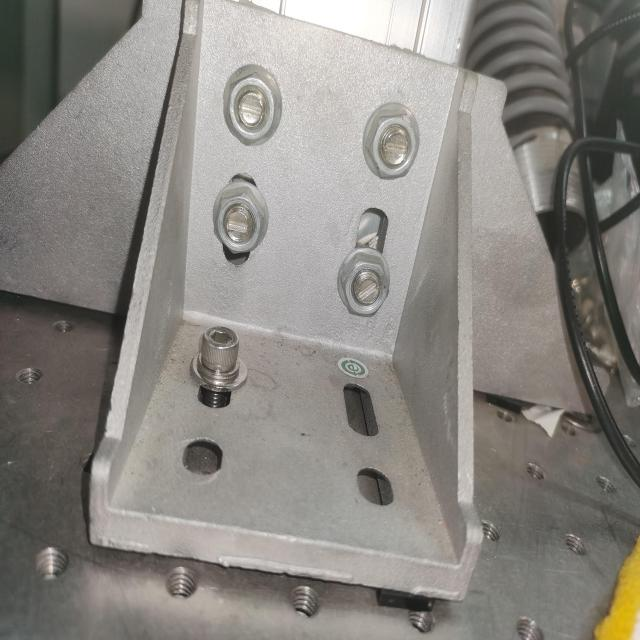bolt nut: (363, 106, 418, 180), (225, 72, 276, 145), (340, 248, 390, 320), (211, 186, 265, 252)
